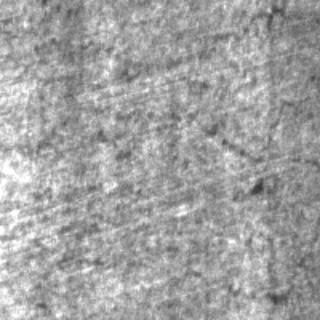crazing: (32, 8, 276, 166)
